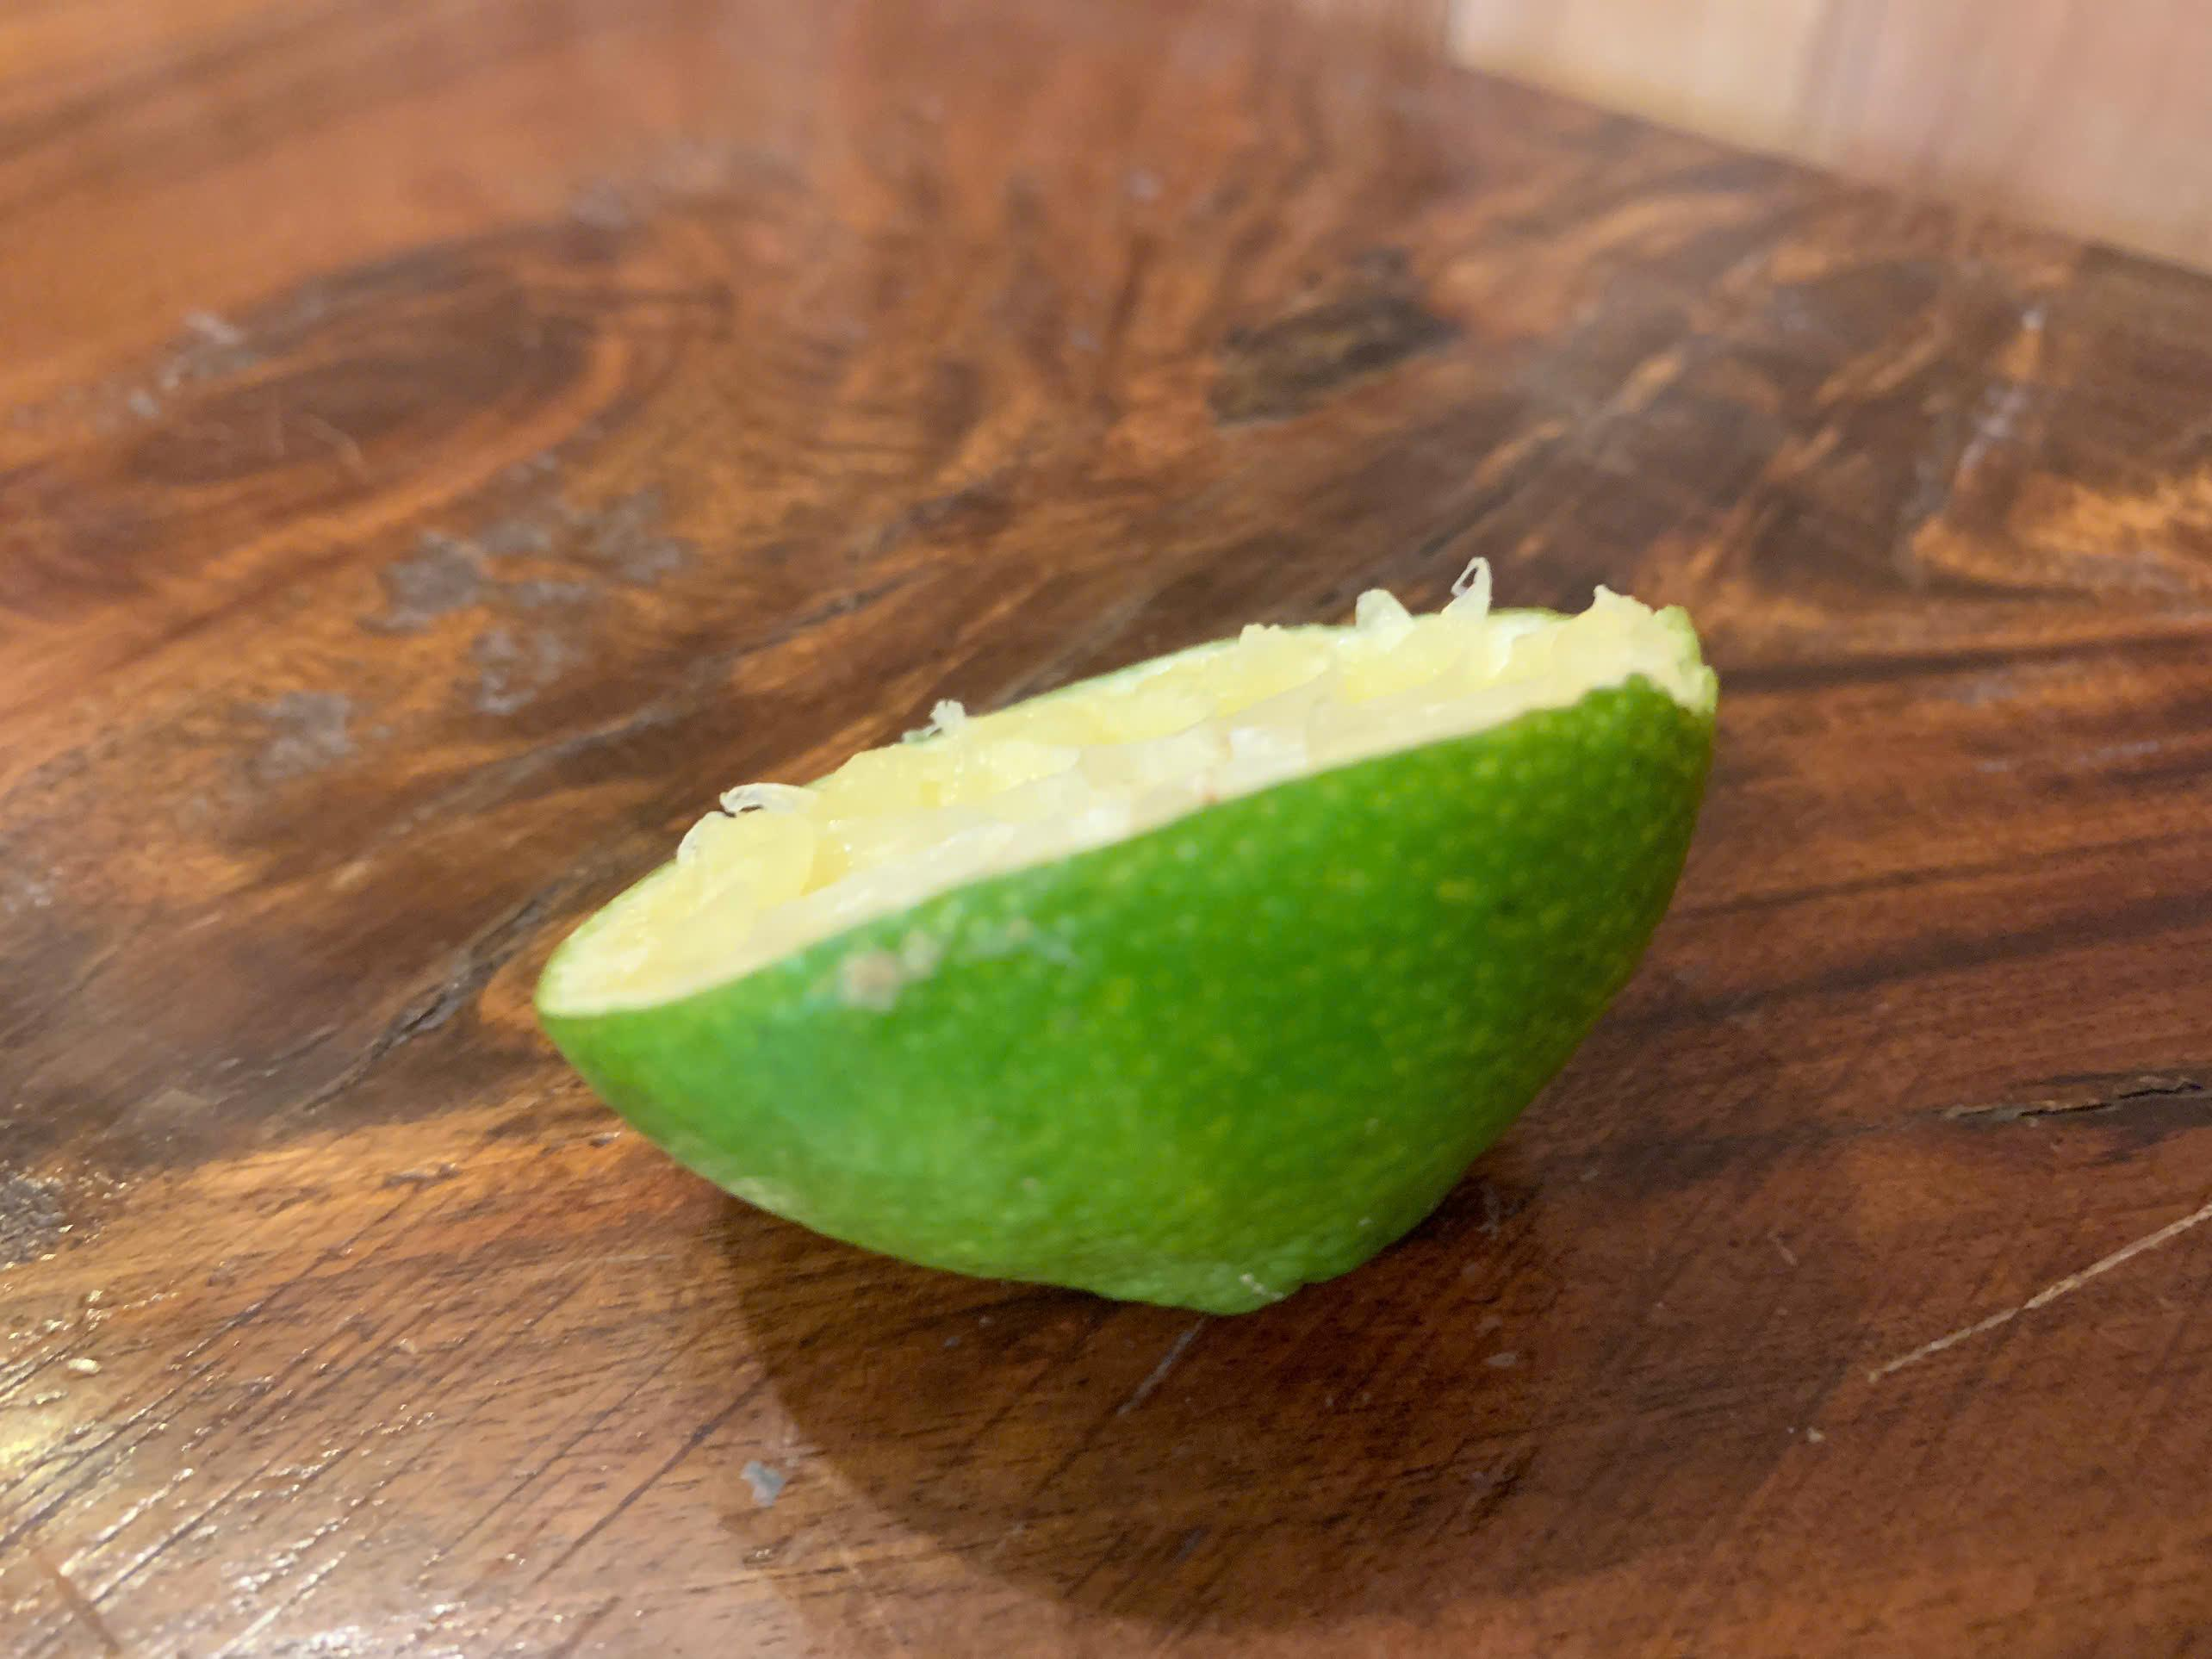Huu co: (531, 606, 1714, 1317)
